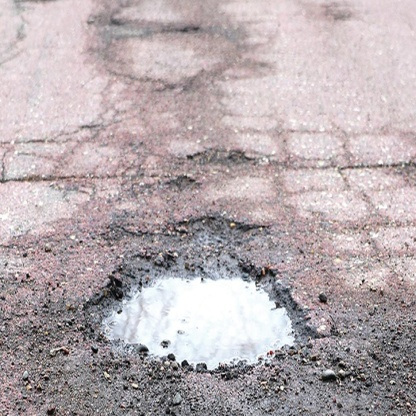pothole: (69, 231, 324, 380)
